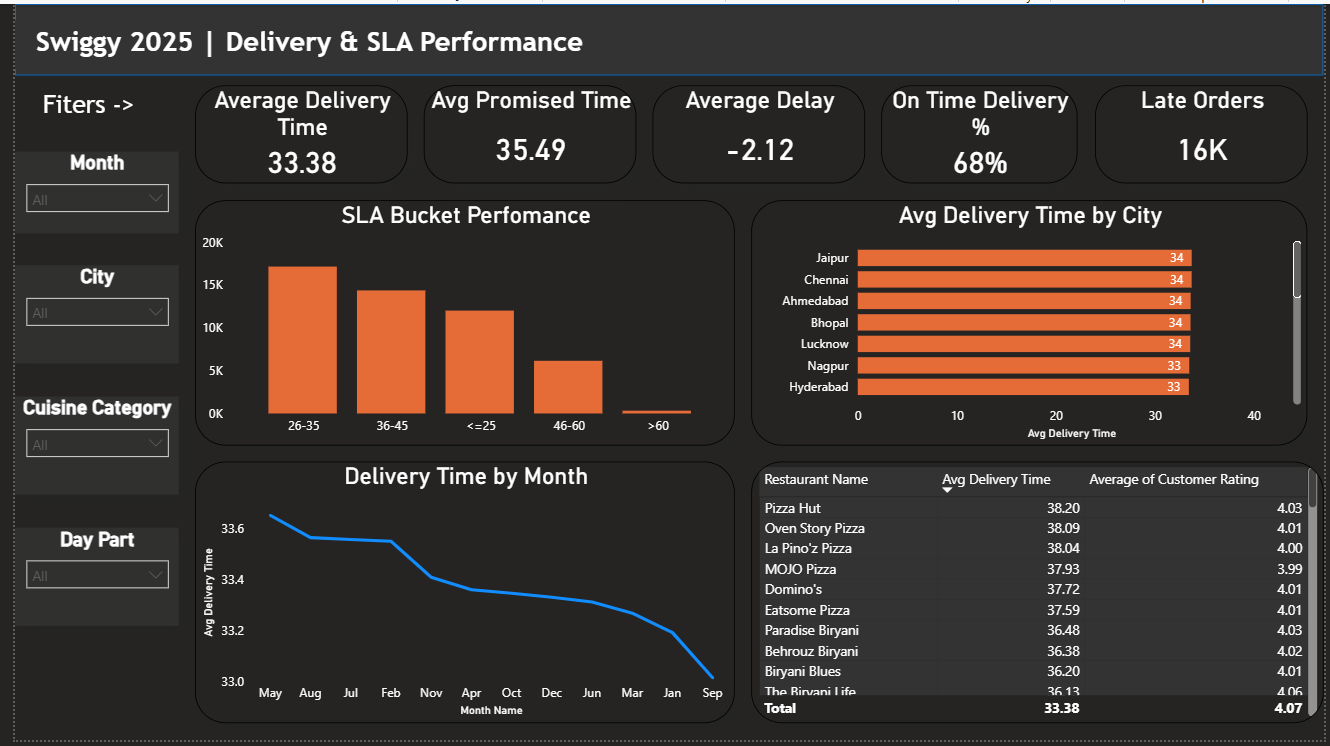

What the dashboard file says about the page in this screenshot:
{"tool":"powerbi","page":{"name":"Delivery & SLA Performance","canvas":[1280,720],"ordinal":1},"visuals":[{"type":"card","title":"On Time Delivery %","fields":{"Values":["Sheet1.On Time %"]},"box":[848,80,192,96],"z":0},{"type":"card","title":"Late Orders","fields":{"Values":["Sheet1.Late Orders"]},"box":[1056,80,208,96],"z":1000},{"type":"card","title":"Average Delay ","fields":{"Values":["Sheet1.Avg Delay Min"]},"box":[624,80,208,96],"z":2000},{"type":"card","title":"Average Delivery Time","fields":{"Values":["Sheet1.Avg Delivery Time"]},"box":[176,80,208,96],"z":3000},{"type":"columnChart","title":"SLA Bucket Perfomance","fields":{"Y":["Sheet1.Total Orders"],"Category":["Sheet1.SLA Bucket"]},"box":[176,192,528,240],"z":4000},{"type":"barChart","fields":{"Y":["Sheet1.Avg Delivery Time"],"Category":["Sheet1.City"]},"box":[720,192,544,240],"z":5000},{"type":"lineChart","title":"Delivery Time by Month","fields":{"Y":["Sheet1.Avg Delivery Time"],"Category":["Sheet1.Month Name"]},"box":[176,448,528,256],"z":6000},{"type":"tableEx","fields":{"Values":["Sheet1.Restaurant Name","Sheet1.Avg Delivery Time","Avg(Sheet1.Customer Rating)"]},"box":[720,448,560,256],"z":7000},{"type":"slicer","title":"City","fields":{"Values":["Sheet1.City"]},"box":[0,256,160,96],"z":8000},{"type":"slicer","title":"Day Part","fields":{"Values":["Sheet1.Day Part"]},"box":[0,512,160,96],"z":9000},{"type":"slicer","title":"Month","fields":{"Values":["Sheet1.Month Name"]},"box":[0,144,160,80],"z":10000},{"type":"shape","box":[0,0,1280,70],"z":10001},{"type":"textbox","box":[0,16,576,48],"z":10002},{"type":"textbox","box":[16,80,112,64],"z":10003},{"type":"slicer","title":"Cuisine Category","fields":{"Values":["Sheet1.Cuisine Category"]},"box":[0,384,160,96],"z":10004},{"type":"card","title":"Avg Promised Time","fields":{"Values":["Sheet1.Avg Promised Time"]},"box":[400,80,208,96],"z":10005}]}

Visuals, with their boxes in screenshot pixels (x1, y1, x2, y2), scaled from the page's 1280x720 canvas onto the 1330x746 screenshot:
"On Time Delivery %" card: detection(881, 83, 1081, 182)
"Late Orders" card: detection(1097, 83, 1313, 182)
"Average Delay " card: detection(648, 83, 864, 182)
"Average Delivery Time" card: detection(183, 83, 399, 182)
"SLA Bucket Perfomance" columnChart: detection(183, 199, 732, 448)
barChart - Sheet1.Avg Delivery Time x Sheet1.City: detection(748, 199, 1313, 448)
"Delivery Time by Month" lineChart: detection(183, 464, 732, 729)
tableEx - Sheet1.Restaurant Name x Sheet1.Avg Delivery Time: detection(748, 464, 1329, 729)
"City" slicer: detection(0, 265, 166, 365)
"Day Part" slicer: detection(0, 530, 166, 630)
"Month" slicer: detection(0, 149, 166, 232)
shape: detection(0, 0, 1329, 73)
textbox: detection(0, 17, 598, 66)
textbox: detection(17, 83, 133, 149)
"Cuisine Category" slicer: detection(0, 398, 166, 497)
"Avg Promised Time" card: detection(416, 83, 632, 182)
